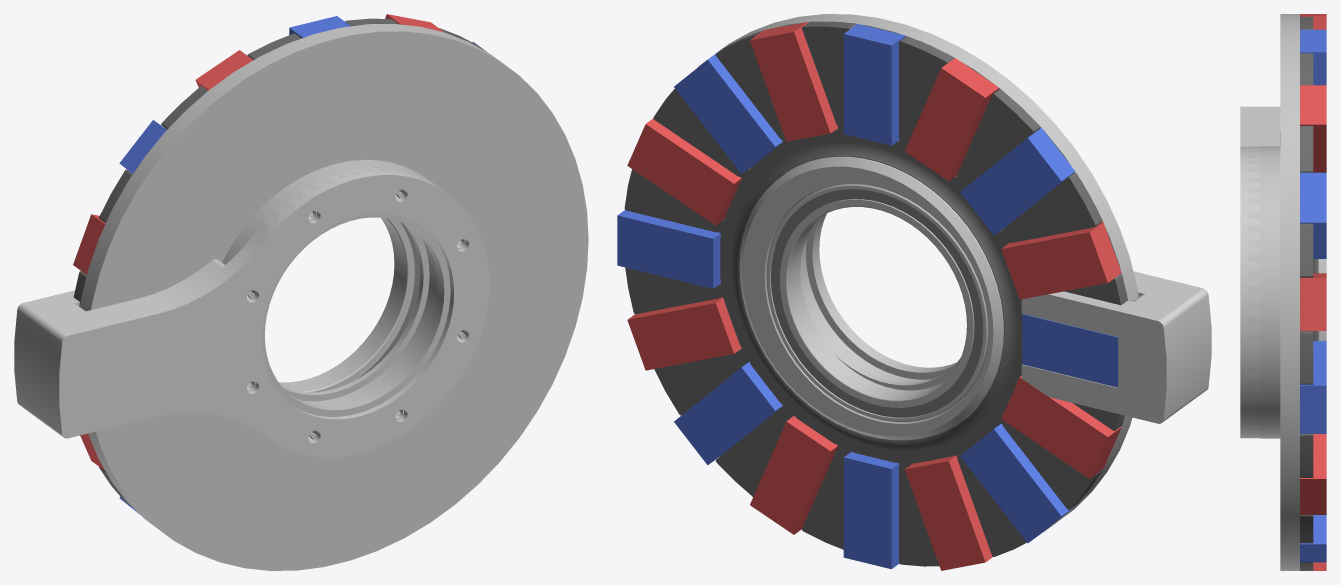
The model's file is backcore_colored.gltf.
The picture shows the model from 3 angles, left to right: view 1: azimuth 30°, elevation 25°; view 2: azimuth 150°, elevation 25°; view 3: azimuth 270°, elevation 25°; orthographic projection. The views are drawn at different scales.
Visible parts, largest first — view 1: backCore, magnetFixture, backCap, W 61706 2RZ, magnetTemplate, mesh452_mesh, mesh225_mesh, mesh243_mesh; view 2: magnetTemplate, backCore, W 61706 2RZ, magnetFixture, mesh422_mesh, mesh243_mesh, mesh213_mesh, mesh225_mesh, mesh219_mesh, mesh231_mesh, mesh428_mesh, mesh458_mesh (+9 smaller); view 3: backCore, magnetFixture, magnetTemplate, mesh458_mesh, mesh434_mesh, mesh213_mesh, backCap, mesh201_mesh, mesh231_mesh, mesh422_mesh, mesh416_mesh, mesh243_mesh.
Boxes of the visible parts, box(x1,y1,x2,y2) form: backCore: box(80, 24, 588, 570); magnetFixture: box(14, 167, 489, 457); backCap: box(259, 167, 450, 416); W 61706 2RZ: box(279, 217, 419, 392); magnetTemplate: box(73, 18, 484, 506); mesh452_mesh: box(119, 120, 166, 173); mesh225_mesh: box(73, 214, 105, 274); mesh243_mesh: box(195, 50, 253, 90); magnetTemplate: box(624, 21, 1127, 566); backCore: box(697, 14, 1138, 531); W 61706 2RZ: box(766, 184, 987, 422); magnetFixture: box(1021, 271, 1211, 423); mesh422_mesh: box(843, 23, 905, 145); mesh243_mesh: box(904, 58, 998, 181); mesh213_mesh: box(750, 22, 838, 141); mesh225_mesh: box(1001, 222, 1121, 299); mesh219_mesh: box(904, 455, 992, 570); mesh231_mesh: box(627, 118, 741, 225); mesh428_mesh: box(843, 451, 899, 569); mesh458_mesh: box(617, 210, 720, 288); backCore: box(1260, 14, 1326, 570); magnetFixture: box(1240, 106, 1280, 438); magnetTemplate: box(1300, 16, 1318, 570); mesh458_mesh: box(1300, 341, 1326, 433); mesh434_mesh: box(1300, 172, 1326, 258); mesh213_mesh: box(1300, 85, 1326, 172); backCap: box(1248, 146, 1260, 437); mesh201_mesh: box(1300, 434, 1326, 514); mesh231_mesh: box(1300, 273, 1326, 330); mesh422_mesh: box(1300, 29, 1326, 85); mesh416_mesh: box(1300, 515, 1326, 562); mesh243_mesh: box(1300, 14, 1326, 29).
Size of the model in its own units: 0.0919 by 0.0839 by 0.013.
